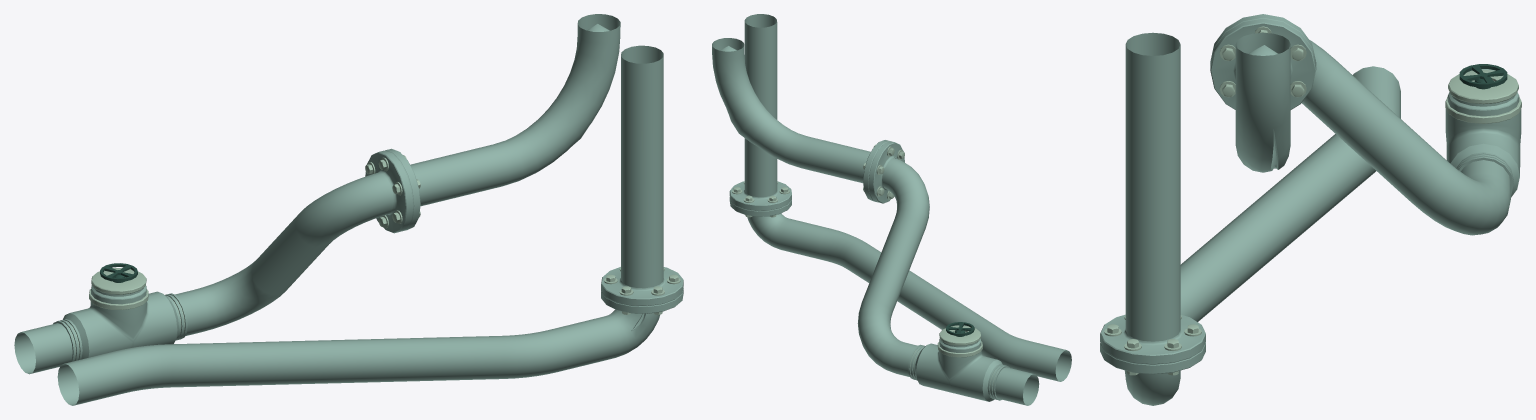
The model's file is PipeComplexLarge_A3_21.fbx.
The picture shows the model from 3 angles, left to right: view 1: azimuth 30°, elevation 25°; view 2: azimuth 150°, elevation 25°; view 3: azimuth 270°, elevation 25°; orthographic projection. The views are drawn at different scales.
Visible parts, largest first — view 1: PipeComplexLarge_A3_21.001; view 2: PipeComplexLarge_A3_21.001; view 3: PipeComplexLarge_A3_21.001.
Boxes of the visible parts, x1=… form: PipeComplexLarge_A3_21.001: x1=14, y1=14, x2=683, y2=405; PipeComplexLarge_A3_21.001: x1=712, y1=14, x2=1071, y2=405; PipeComplexLarge_A3_21.001: x1=1100, y1=14, x2=1521, y2=405.
Size of the model in its own units: 2.79 by 1.53 by 1.53.
